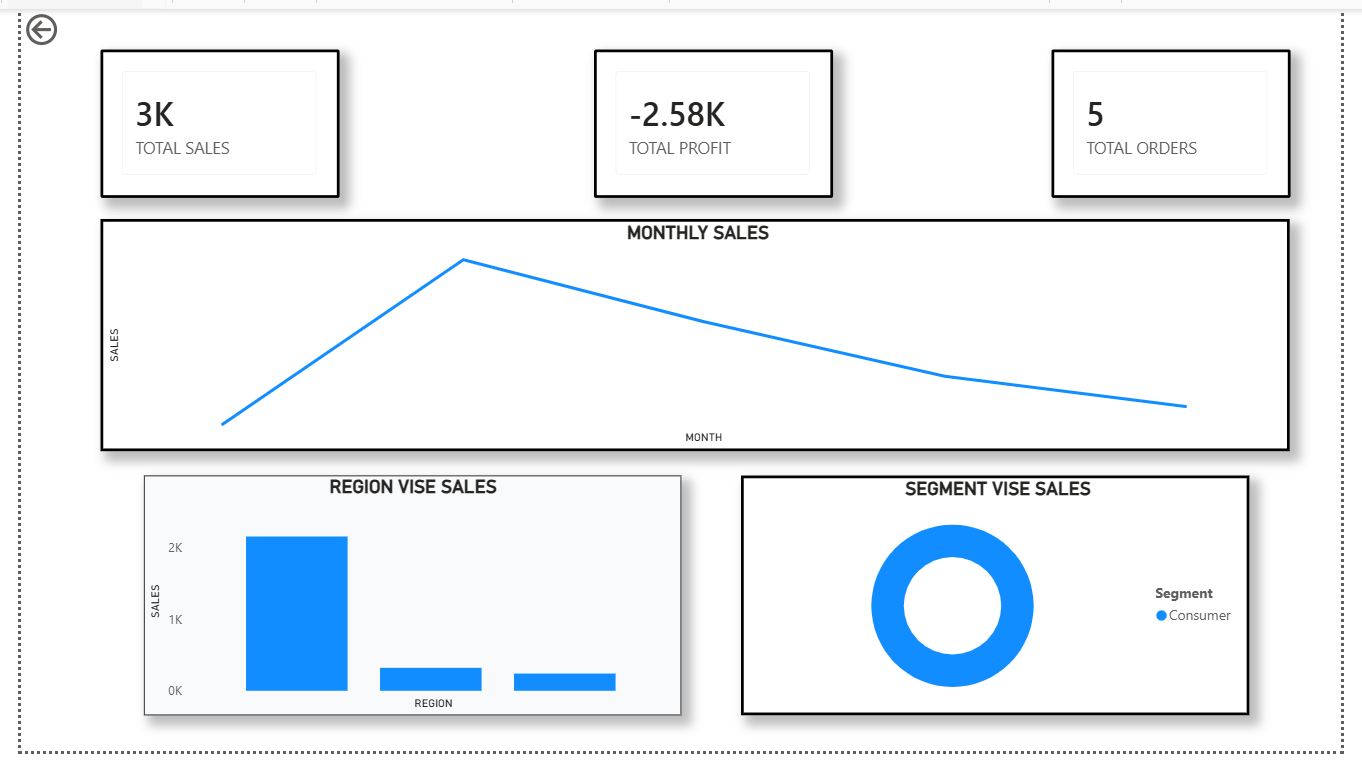

Layout of this report page (visuals, bound fields, positions):
{"tool":"powerbi","page":{"name":"PRODUCT DETAILS","canvas":[1280,720],"ordinal":6},"visuals":[{"type":"actionButton","box":[0,0,100,40],"z":0},{"type":"cardVisual","fields":{"Data":["Sum(superstore.Sales)"]},"box":[77.2,39.4,231.7,143.8],"z":1},{"type":"cardVisual","fields":{"Data":["Sum(superstore.Profit)"]},"box":[555.7,39.4,231.7,143.8],"z":2},{"type":"cardVisual","fields":{"Data":["Count(superstore.Order.ID)"]},"box":[999.4,39.4,231.7,143.8],"z":3},{"type":"lineChart","title":"MONTHLY SALES","fields":{"Category":["Date Table.Year Month"],"Y":["Sum(superstore.Sales)"]},"box":[77.1,203.8,1154.3,225.6],"z":4},{"type":"columnChart","title":"REGION VISE SALES","fields":{"Category":["superstore.Region"],"Y":["Sum(superstore.Sales)"]},"box":[119.4,452.7,521.1,232.9],"z":5},{"type":"donutChart","title":"SEGMENT VISE SALES","fields":{"Y":["Sum(superstore.Sales)"],"Category":["superstore.Segment"]},"box":[698.7,452.7,493.4,232.9],"z":6}]}

Visuals, with their boxes in screenshot pixels (x1, y1, x2, y2), scaled from the page's 1280x720 canvas onto the 1362x762 screenshot:
actionButton: bbox=(0, 0, 106, 42)
cardVisual - Sum(superstore.Sales): bbox=(82, 42, 329, 194)
cardVisual - Sum(superstore.Profit): bbox=(591, 42, 838, 194)
cardVisual - Count(superstore.Order.ID): bbox=(1063, 42, 1310, 194)
"MONTHLY SALES" lineChart: bbox=(82, 216, 1310, 454)
"REGION VISE SALES" columnChart: bbox=(127, 479, 682, 726)
"SEGMENT VISE SALES" donutChart: bbox=(743, 479, 1268, 726)
